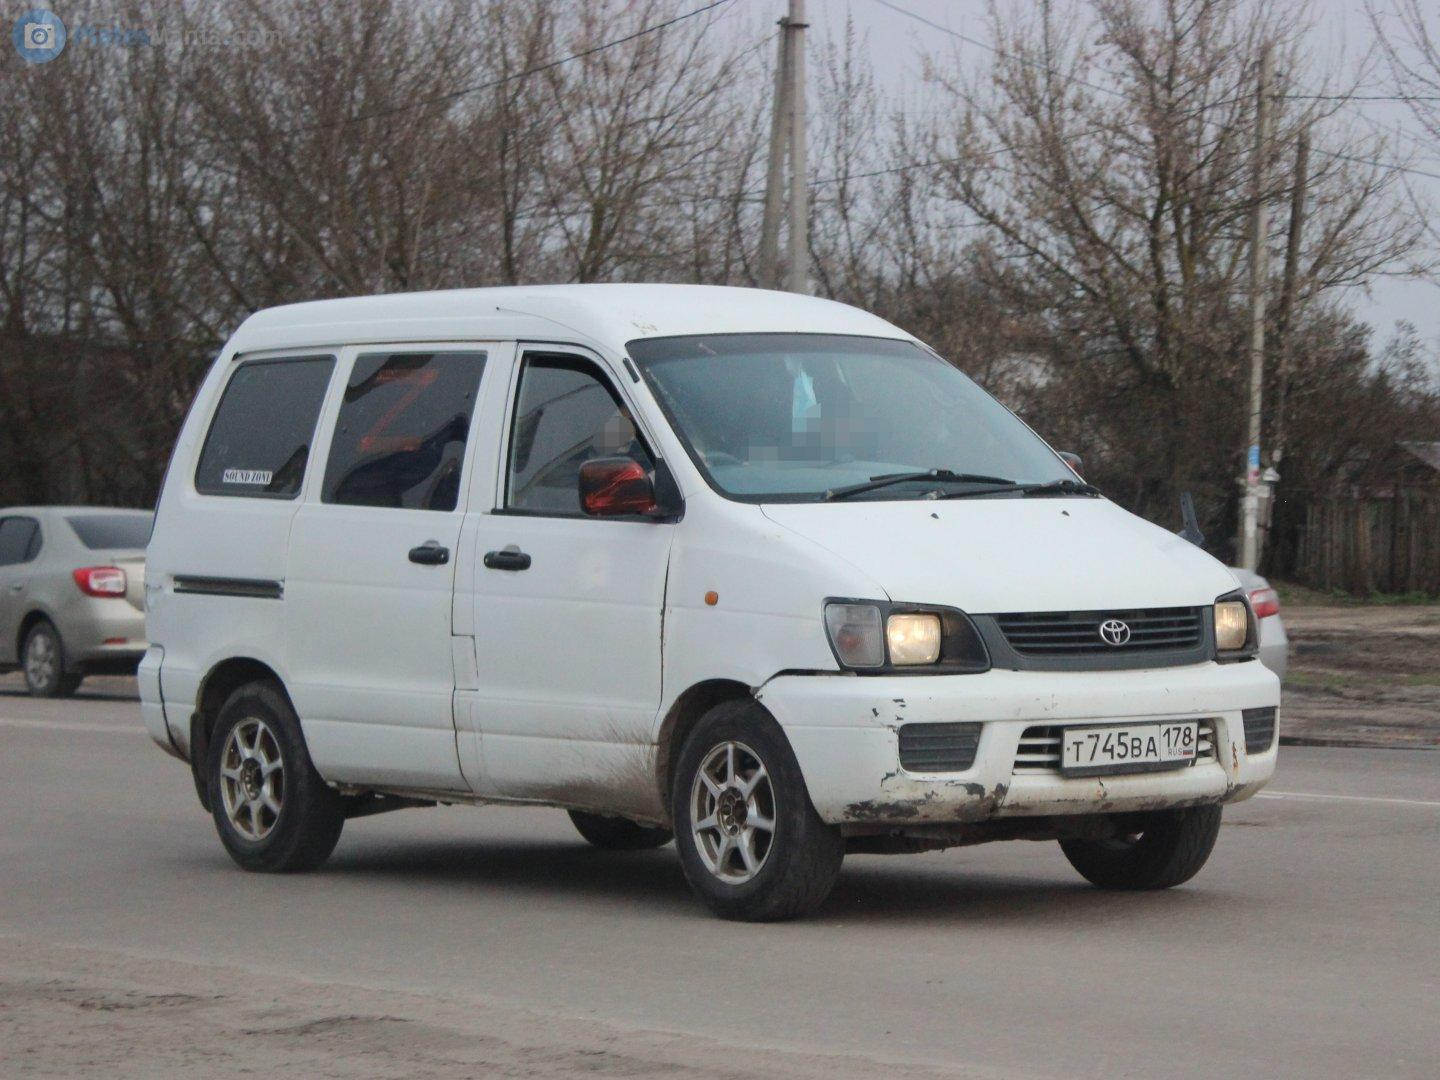license-plateSW: (1063, 722, 1209, 765)
